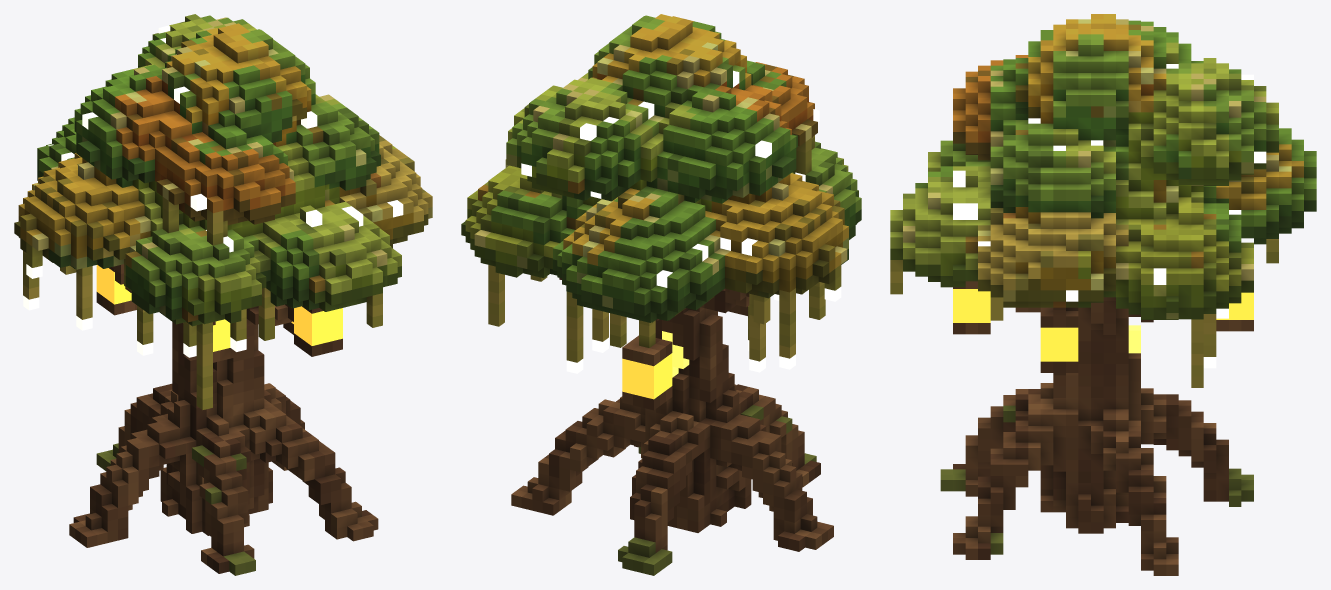
Rendered from tree-fairy-l.glb.
The picture shows the model from 3 angles, left to right: view 1: azimuth 30°, elevation 25°; view 2: azimuth 150°, elevation 25°; view 3: azimuth 270°, elevation 25°; orthographic projection. The views are drawn at different scales.
Visible parts, largest first — view 1: TREE_FAIRY_L__details; view 2: TREE_FAIRY_L__details; view 3: TREE_FAIRY_L__details.
Boxes of the visible parts, x1,y1,x2,y2 form: TREE_FAIRY_L__details: (14,14,432,575); TREE_FAIRY_L__details: (461,14,861,575); TREE_FAIRY_L__details: (890,14,1316,575).
Bounding box in the file's own units: 1.53 × 2 × 1.58.
